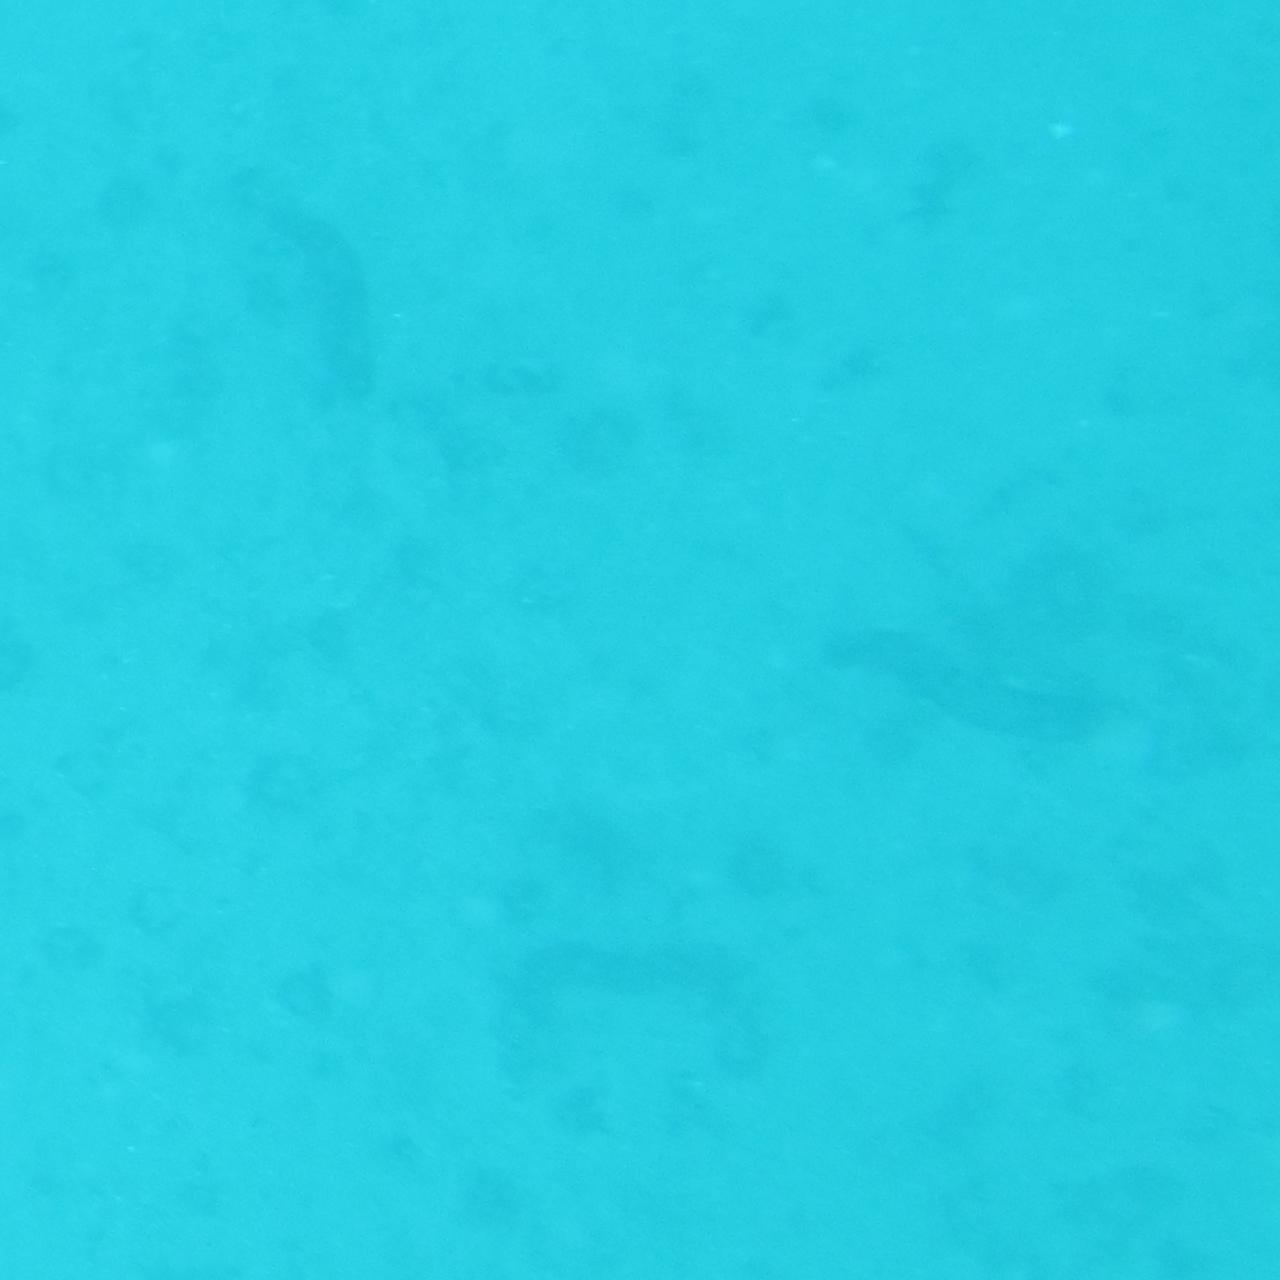Holothuria tubulosa: (818, 615, 1107, 765), (477, 915, 765, 1056), (239, 169, 399, 420)
